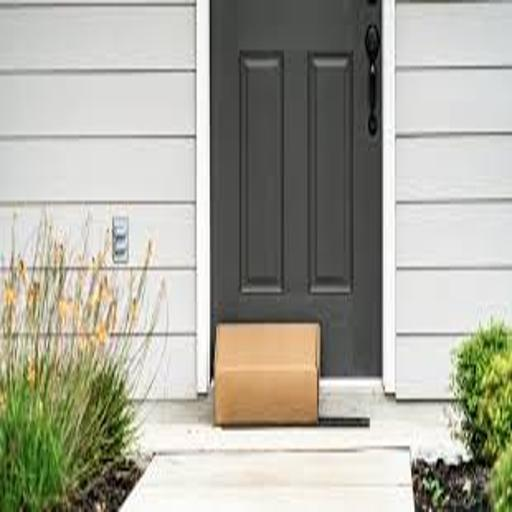Other: (212, 314, 326, 430)
